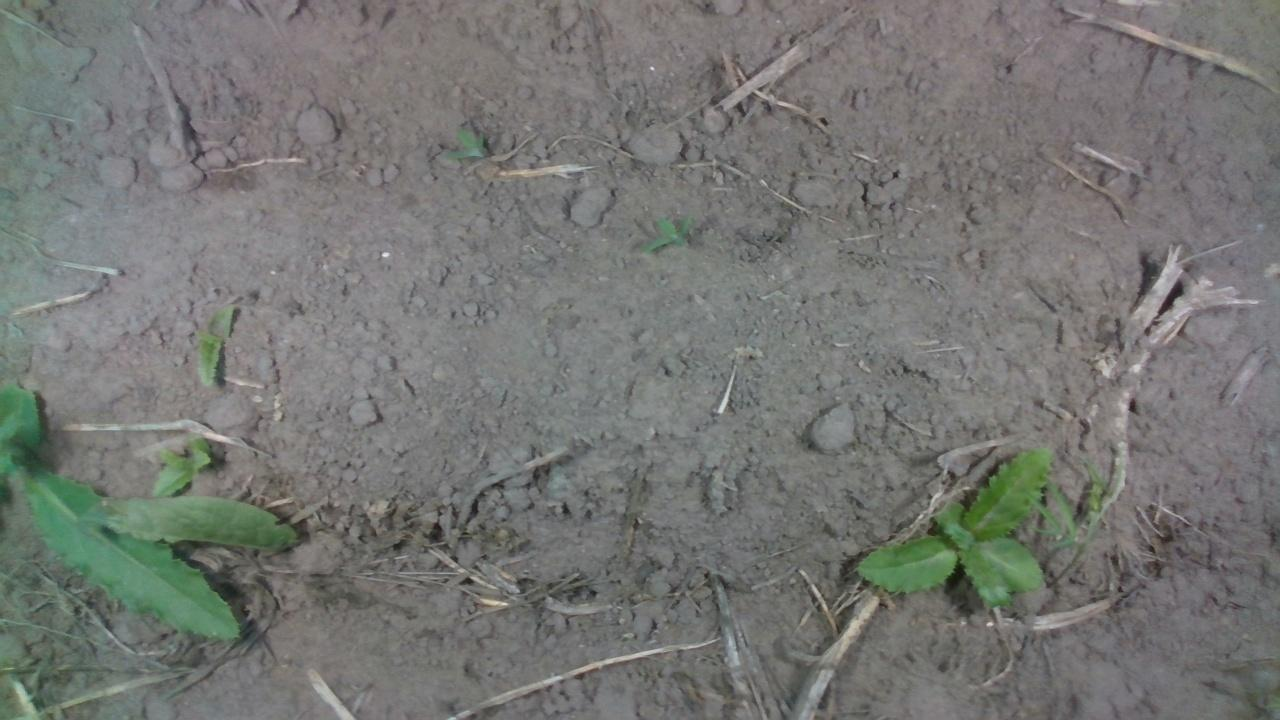weed: (193, 300, 237, 388), (640, 210, 694, 253)
